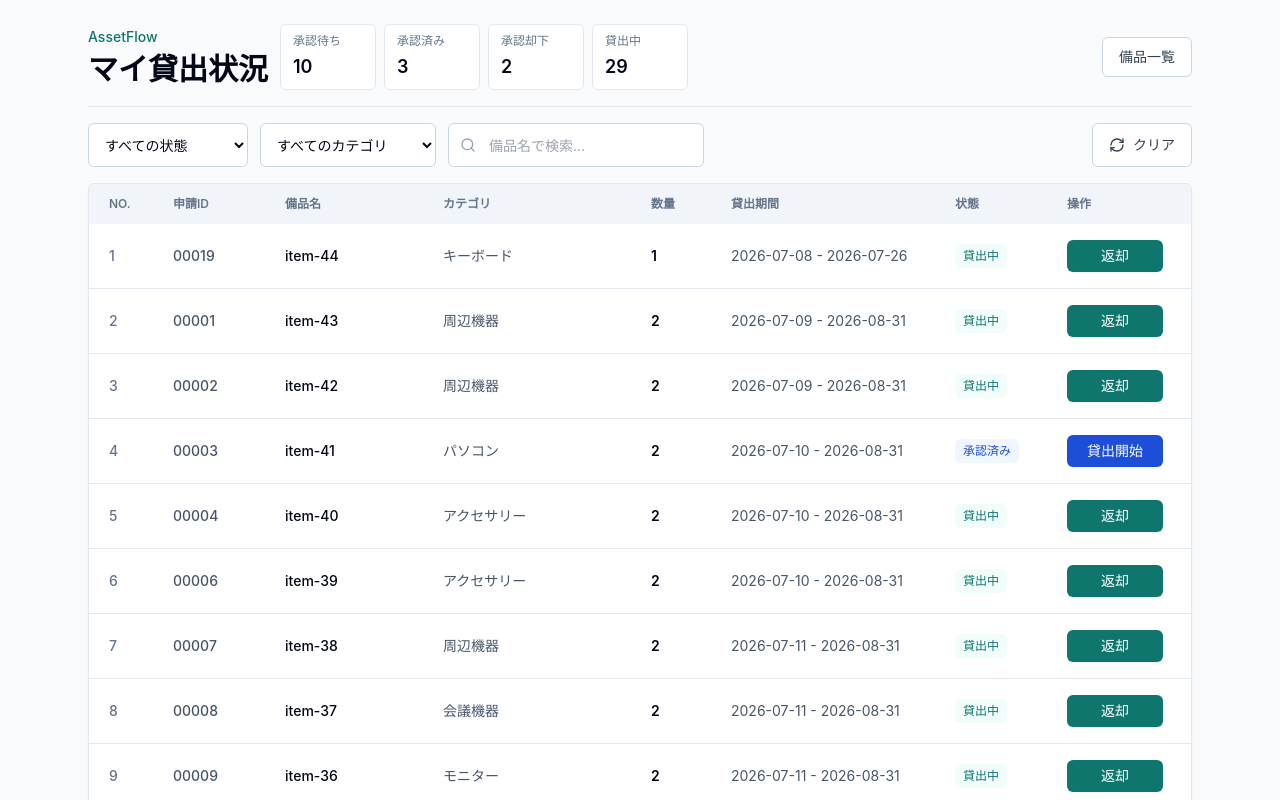
Test: MyLoanRequestPage › 033: 小文字 p のキーワード検索で15件を表示する
Type "p" into the search field with placeholder "備品名で検索..." at (576, 145), box [448,123,704,167]
(page scrolled)
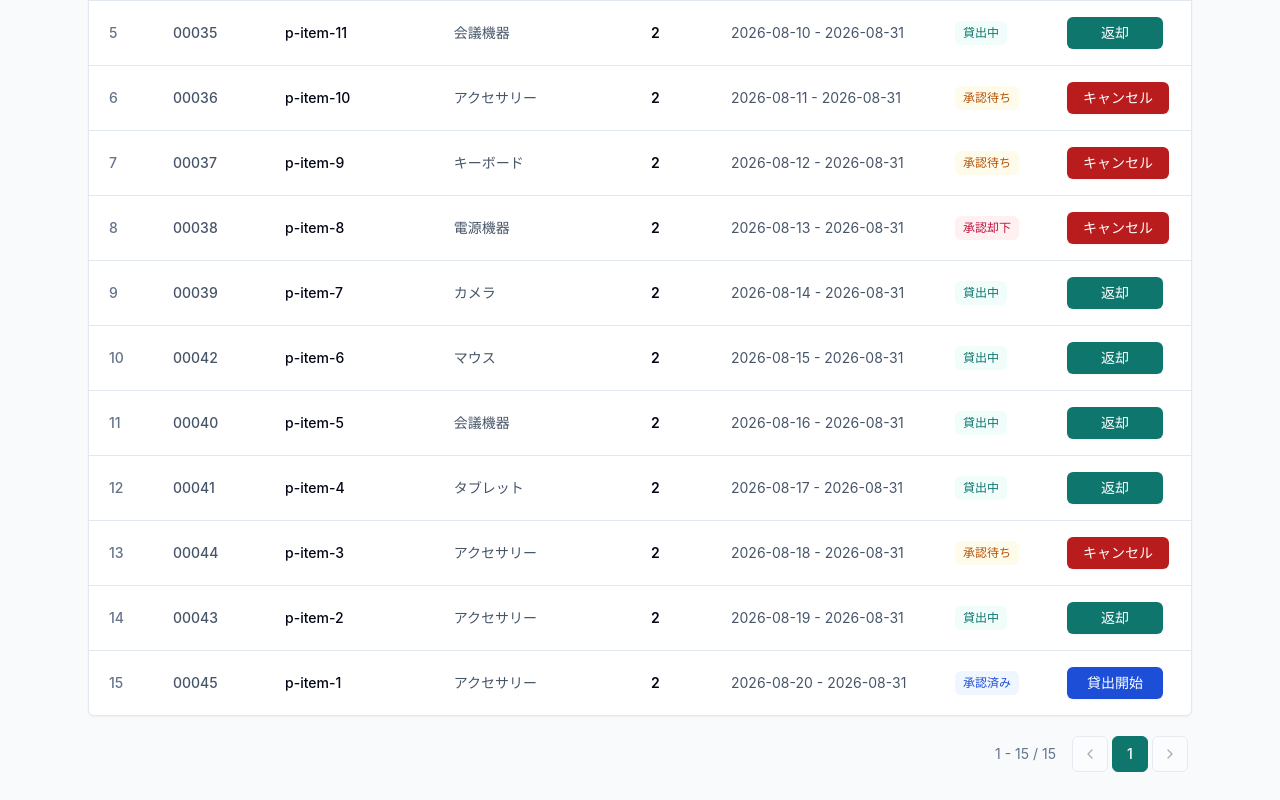
Expected: the button named "前のページ" is disabled, [1072,736,1108,772]
Expected: the button named "次のページ" is disabled, [1152,736,1188,772]
